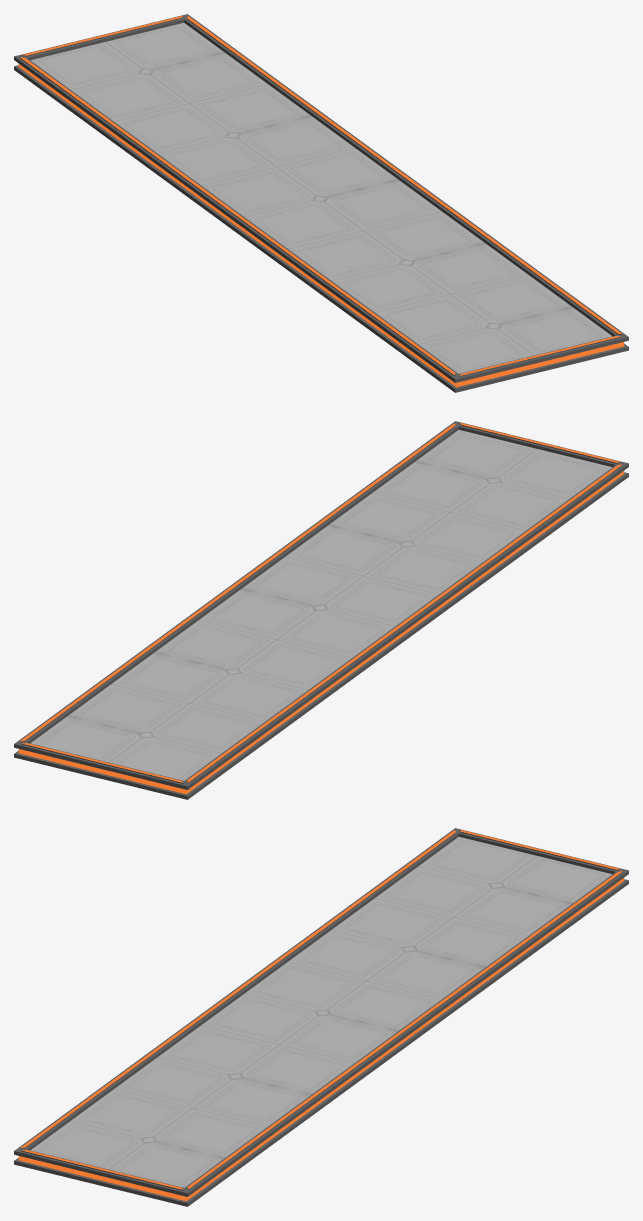
File: Bodden.glb
3 views of the same model, one above another, from view 1: azimuth 30°, elevation 25°; view 2: azimuth 150°, elevation 25°; view 3: azimuth 330°, elevation 25° (orthographic).
Parts seen in each view (by area): view 1: Plane.055; view 2: Plane.055; view 3: Plane.055.
Part boxes in pixels (<box>): Plane.055: <box>14,14,628,392</box>; Plane.055: <box>14,421,628,799</box>; Plane.055: <box>14,828,628,1206</box>.
Size of the model in its own units: 2.65 by 0.2097 by 11.65.
Materials: 3 (1 with a texture image).
